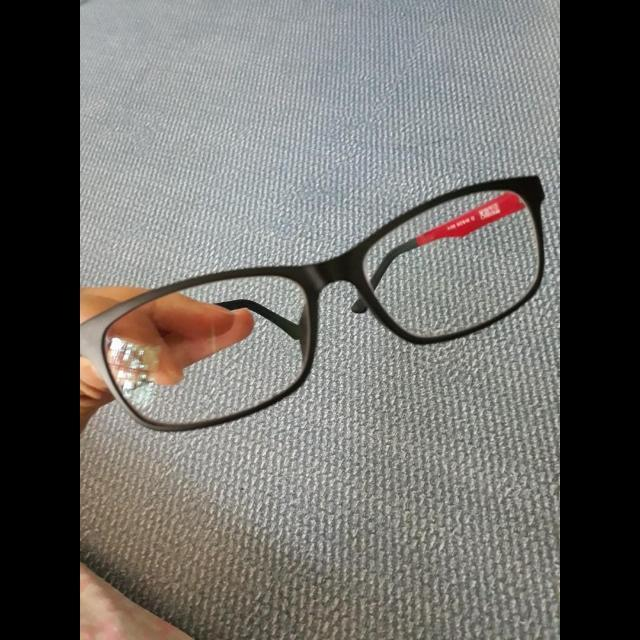mask: (80, 175, 550, 433)
